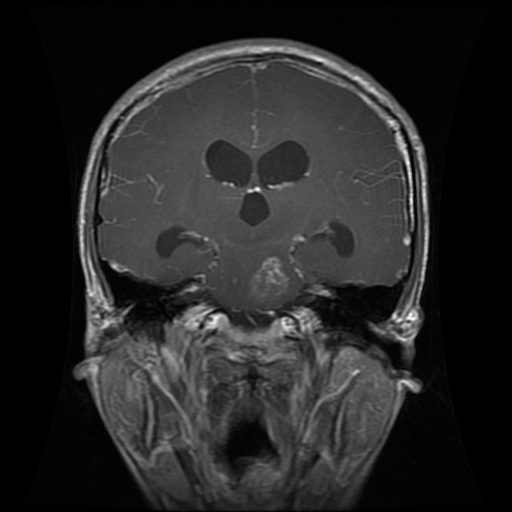glioma: (246, 254, 291, 310)
